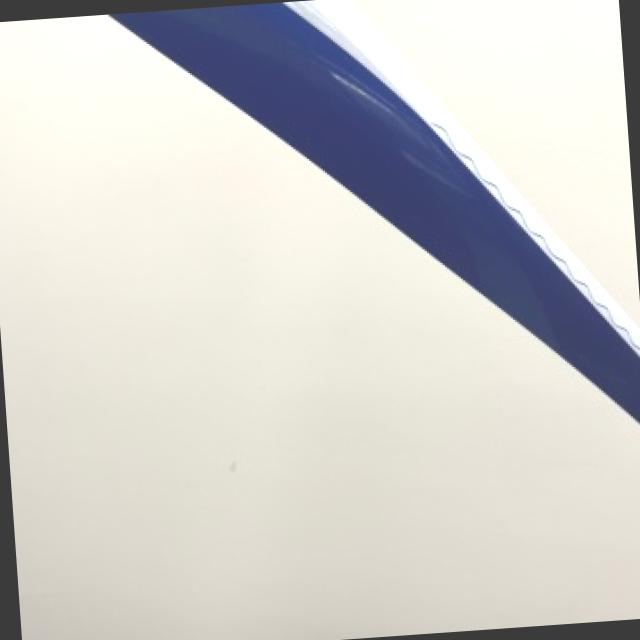healthy: (110, 0, 640, 421)
